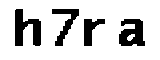7: (46, 6, 80, 50)
a: (112, 17, 150, 48)
h: (11, 4, 43, 49)
r: (80, 16, 108, 50)
